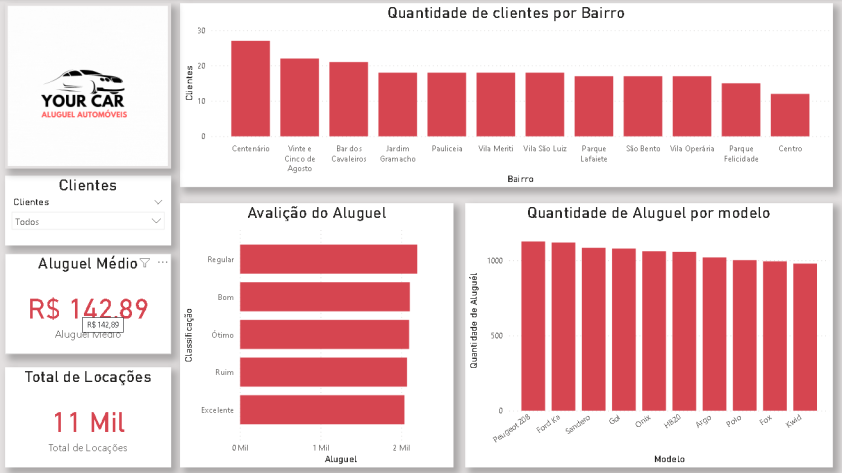

What the dashboard file says about the page in this screenshot:
{"tool":"powerbi","page":{"name":"Perfil do Cliente","canvas":[1280,720],"ordinal":1},"visuals":[{"type":"clusteredColumnChart","title":"Quantidade de clientes por Bairro","fields":{"Category":["public dim_cliente.bairro"],"Y":["_medidas.Qtd de clientes"]},"box":[273.3,5.8,991.1,279.1],"z":1000},{"type":"slicer","title":"Clientes","fields":{"Values":["public dim_cliente.nm_cliente"]},"box":[7.8,267.5,251.9,106],"z":2000},{"type":"columnChart","title":"Quantidade de Aluguel por modelo","fields":{"Category":["public dim_carro.modelo"],"Y":["Sum(public ft_locacao.md_qtd)"]},"box":[706.1,309.3,558.3,400.7],"z":3000},{"type":"actionButton","box":[7.8,5.8,251.9,250.9],"z":5001},{"type":"card","title":"Total de Locações","fields":{"Values":["Sum(public ft_locacao.md_qtd)"]},"box":[7.8,558.3,251.9,151.7],"z":5002},{"type":"card","title":"Aluguel Médio","fields":{"Values":["_medidas.Aluguél Médio"]},"box":[7.8,386.1,251.9,151.7],"z":5003},{"type":"barChart","title":"Avalição do Aluguel","fields":{"Category":["public dim_avaliacao.classificacao"],"Y":["Sum(public ft_locacao.md_qtd)"]},"box":[273.3,309.3,415.3,400.7],"z":5004}]}

Visuals, with their boxes in screenshot pixels (x1, y1, x2, y2), scaled from the page's 1280x720 canvas onto the 842x473 screenshot:
"Quantidade de clientes por Bairro" clusteredColumnChart: locate(180, 4, 832, 187)
"Clientes" slicer: locate(5, 176, 171, 245)
"Quantidade de Aluguel por modelo" columnChart: locate(464, 203, 832, 466)
actionButton: locate(5, 4, 171, 169)
"Total de Locações" card: locate(5, 367, 171, 466)
"Aluguel Médio" card: locate(5, 254, 171, 353)
"Avalição do Aluguel" barChart: locate(180, 203, 453, 466)
